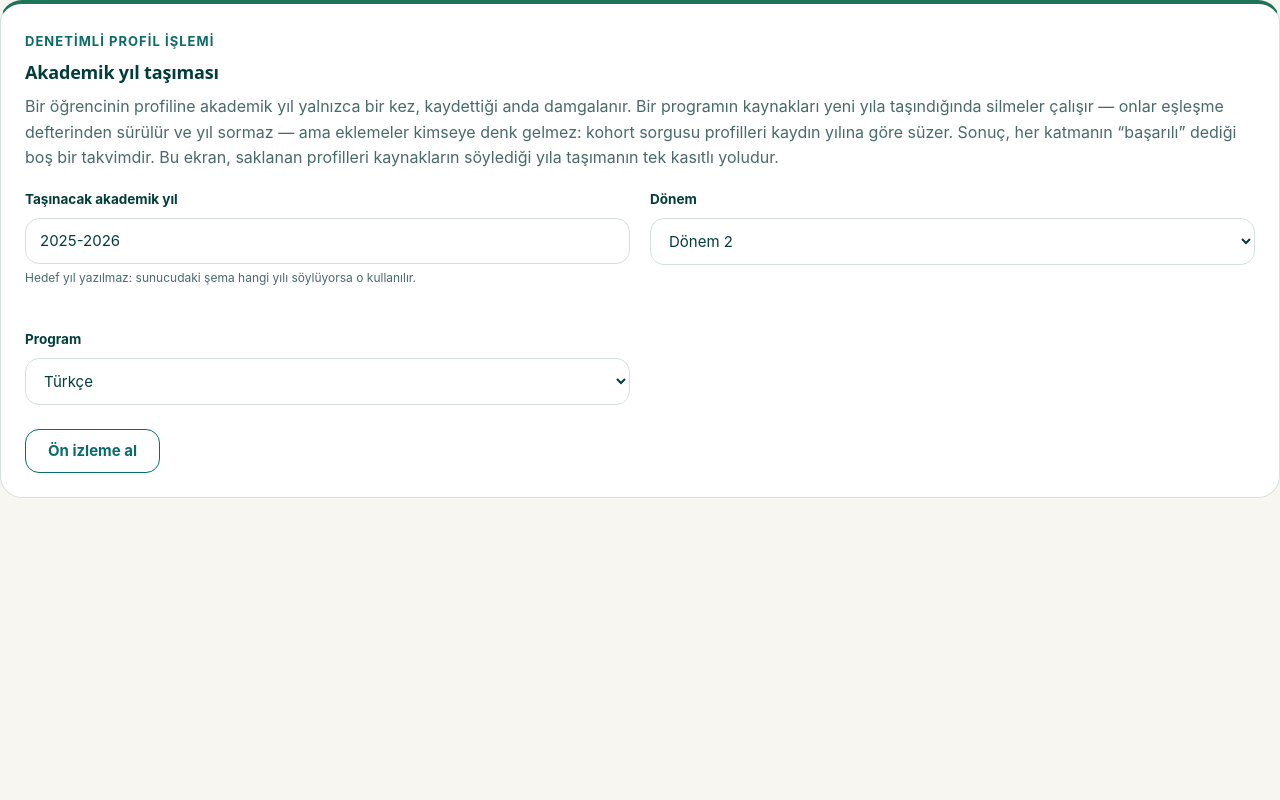
Test case: ProfileRolloverControl › shows both years, how many profiles move and how many lessons that puts back
The width and height of the screenshot is (1280, 800).
Step 1. Click the button "Ön izleme al" → (93,451), box [25,429,160,473]
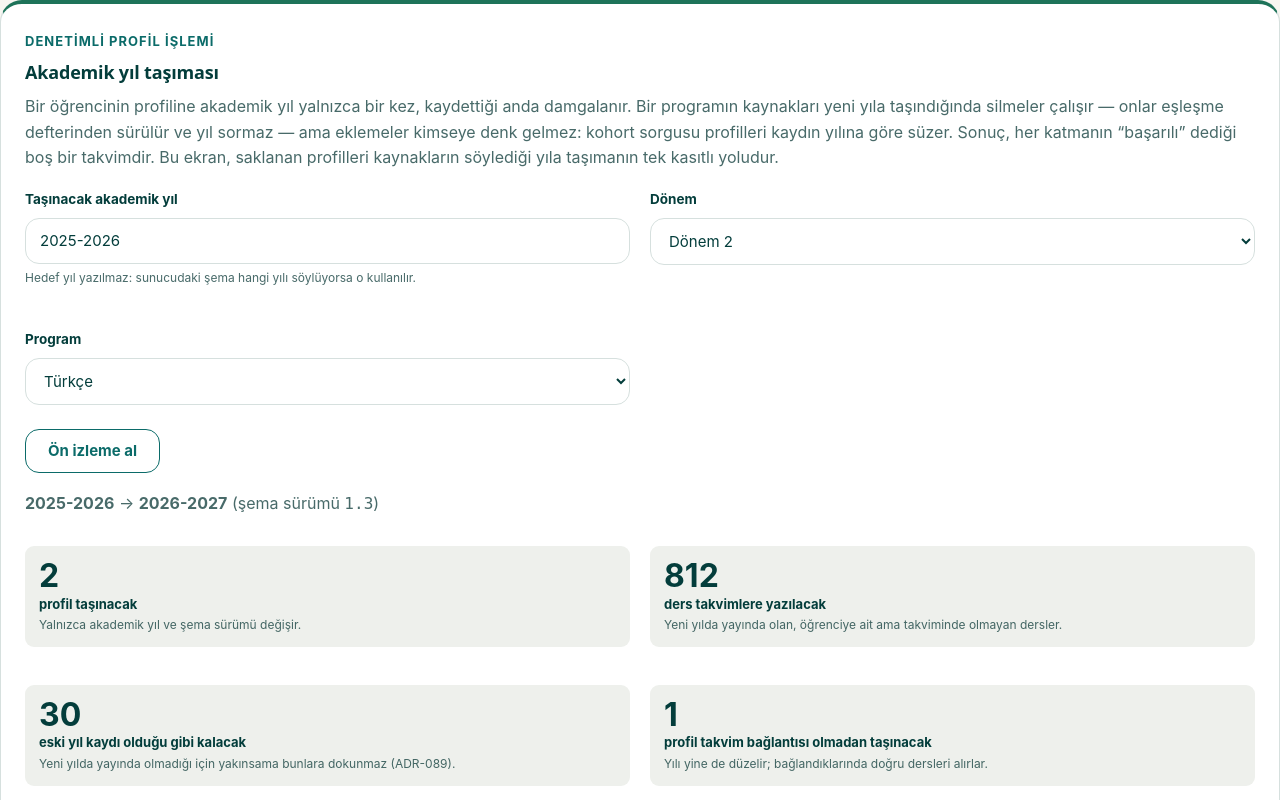
expect the text "812" is shown: met, box [664,556,719,595]
expect the text "ders takvimlere yazılacak" is shown: met, box [664,596,826,612]
expect the text "profil taşınacak" is shown: met, box [39,596,137,612]
